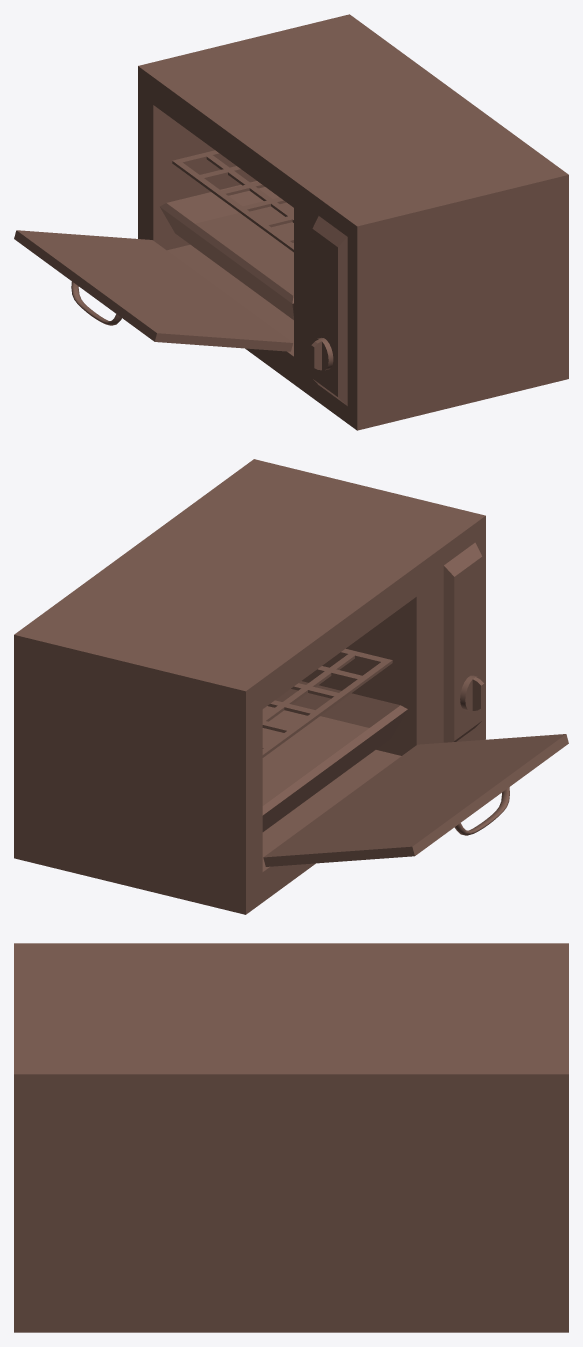
Rendered from kaoxiang.fbx.
3 renders of one model, top to bottom at view 1: azimuth 30°, elevation 25°; view 2: azimuth 150°, elevation 25°; view 3: azimuth 270°, elevation 25°, orthographic. The views are drawn at different scales.
Visible parts, largest first — view 1: Box009; view 2: Box009; view 3: Box009.
Part boxes in pixels (bbox=[...]): Box009: bbox=[14, 14, 568, 430]; Box009: bbox=[14, 459, 568, 914]; Box009: bbox=[14, 943, 568, 1332].
Bounding box in the file's own units: 9.6 × 5.34 × 10.39.
